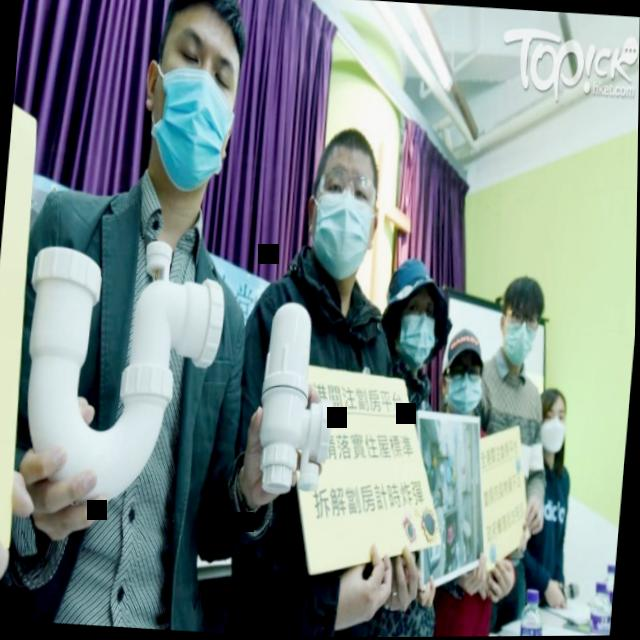Mask: (130, 0, 257, 202), (296, 115, 392, 290), (375, 248, 459, 375), (492, 264, 554, 374), (438, 320, 494, 420), (532, 379, 576, 463)
